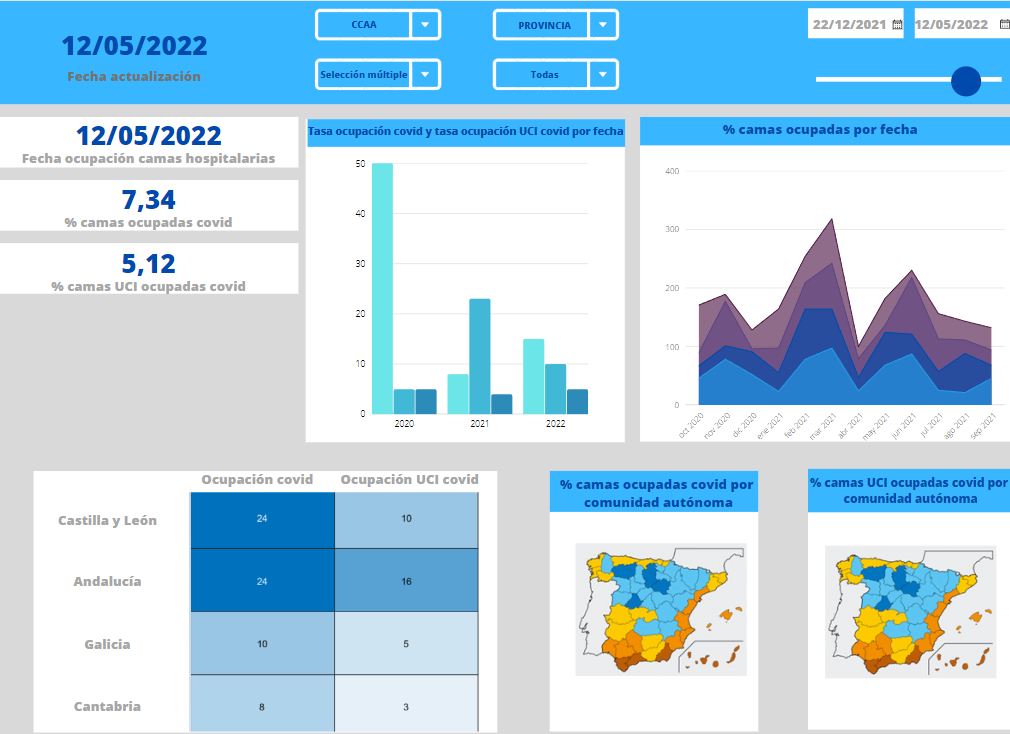

This screenshot's page, from the dashboard's own definition file:
{"tool":"powerbi","page":{"name":"Camas hospitalarias","canvas":[1280,720],"ordinal":4},"visuals":[{"type":"slicer","fields":{"Values":["DIM_CALENDARIO.ID_FECHA"]},"box":[880.4,9.6,383.5,77.2],"z":0},{"type":"card","fields":{"Values":["FACT_HOSPITALES.Datos hospitales actualizados"]},"box":[10.9,9.6,290.7,77.2],"z":500},{"type":"card","fields":{"Values":["FACT_HOSPITALES.% camas ocupadas covid"]},"box":[16,192,272,80],"z":1000},{"type":"card","fields":{"Values":["FACT_HOSPITALES.% camas UCI ocupadas covid"]},"box":[16,288,272,80],"z":2000},{"type":"actionButton","box":[10.9,9.6,100.1,39.8],"z":2500},{"type":"filledMap","title":"Porcentaje de camas UCI ocupadas por covid","fields":{"Category":["DIM_PROVINCIAS.CCAA"]},"box":[976,384,288,320],"z":3000},{"type":"filledMap","title":"Porcentaje de camas ocupadas por covid","fields":{"Category":["DIM_PROVINCIAS.CCAA"]},"box":[672,384,288,320],"z":4000},{"type":"pivotTable","fields":{"Rows":["DIM_PROVINCIAS.CCAA"],"Values":["FACT_HOSPITALES.Tasa ocupacion por 100000 habitantes","FACT_HOSPITALES.Tasa ocupacion UCI por 100000 habitantes"]},"box":[16,384,640,320],"z":5000},{"type":"areaChart","title":"Evolución diaria del porcentaje de camas ocupadas según el tipo","fields":{"Category":["DIM_CALENDARIO.ID_FECHA.Variación.Date Hierarchy.Year"],"Y":["FACT_HOSPITALES.% camas ocupadas covid","FACT_HOSPITALES.% camas UCI ocupadas covid","FACT_HOSPITALES.% camas ocupadas","FACT_HOSPITALES.% camas UCI ocupadas"]},"box":[672,96,592,272],"z":6000},{"type":"card","fields":{"Values":["FACT_HOSPITALES.Fecha tasa nuevos ingresos"]},"box":[16,96,272,80],"z":7000},{"type":"lineClusteredColumnComboChart","title":"Evolución diaria de tasa de ocupación cada 100.000 habitantes","fields":{"Category":["DIM_CALENDARIO.ID_FECHA.Variación.Date Hierarchy.Year"],"Y":["FACT_HOSPITALES.Tasa ocupacion covid por 100000 habitantes","FACT_HOSPITALES.Tasa ocupacion UCI covid por 100000 habitantes"]},"box":[304,96,352,272],"z":8000},{"type":"slicer","fields":{"Values":["DIM_PROVINCIAS.CCAA1"]},"box":[292.5,9.6,300.8,76.9],"z":10000},{"type":"slicer","fields":{"Values":["DIM_PROVINCIAS.PROVINCIA"]},"box":[593.3,9.6,300.8,76.9],"z":11000}]}

Visuals, with their boxes on the page's 1280x720 design canvas (x1, y1, x2, y2). These are canvas units, not pixel positions in the 1010x734 screenshot, which may show the page scaled, cropped or inside an application window:
slicer - DIM_CALENDARIO.ID_FECHA: 880 10 1264 87
card - FACT_HOSPITALES.Datos hospitales actualizados: 11 10 302 87
card - FACT_HOSPITALES.% camas ocupadas covid: 16 192 288 272
card - FACT_HOSPITALES.% camas UCI ocupadas covid: 16 288 288 368
actionButton: 11 10 111 49
"Porcentaje de camas UCI ocupadas por covid" filledMap: 976 384 1264 704
"Porcentaje de camas ocupadas por covid" filledMap: 672 384 960 704
pivotTable - DIM_PROVINCIAS.CCAA x FACT_HOSPITALES.Tasa ocupacion por 100000 habitantes: 16 384 656 704
"Evolución diaria del porcentaje de camas ocupadas según el tipo" areaChart: 672 96 1264 368
card - FACT_HOSPITALES.Fecha tasa nuevos ingresos: 16 96 288 176
"Evolución diaria de tasa de ocupación cada 100.000 habitantes" lineClusteredColumnComboChart: 304 96 656 368
slicer - DIM_PROVINCIAS.CCAA1: 292 10 593 86
slicer - DIM_PROVINCIAS.PROVINCIA: 593 10 894 86
